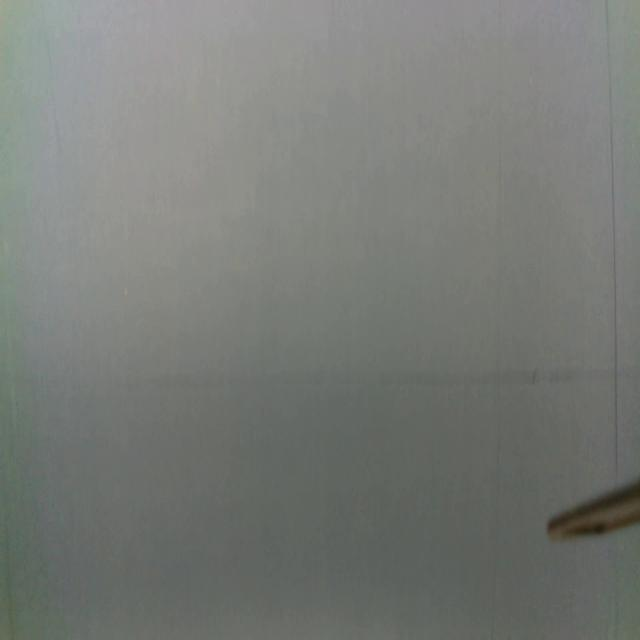color bleeding: (150, 362, 614, 394)
crease: (602, 0, 621, 485), (46, 36, 64, 158)
